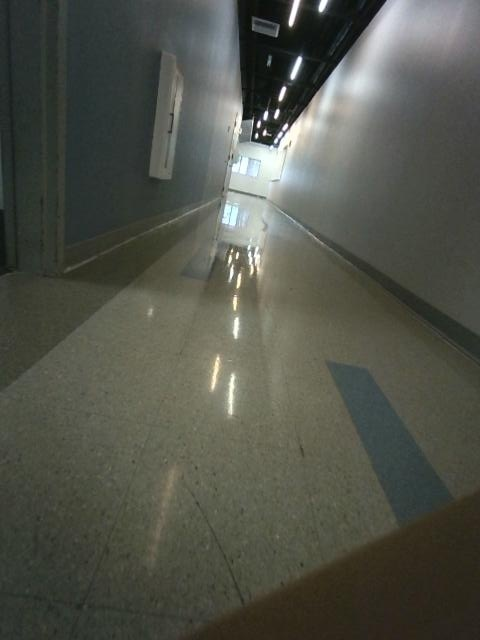ball: (149, 51, 183, 179)
